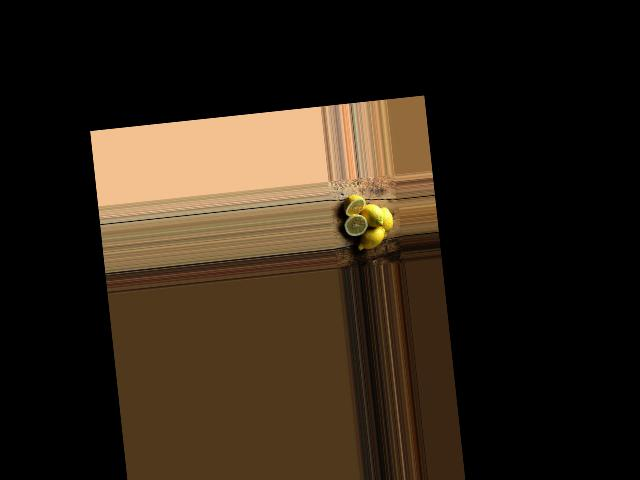lemon: (354, 225, 388, 253)
